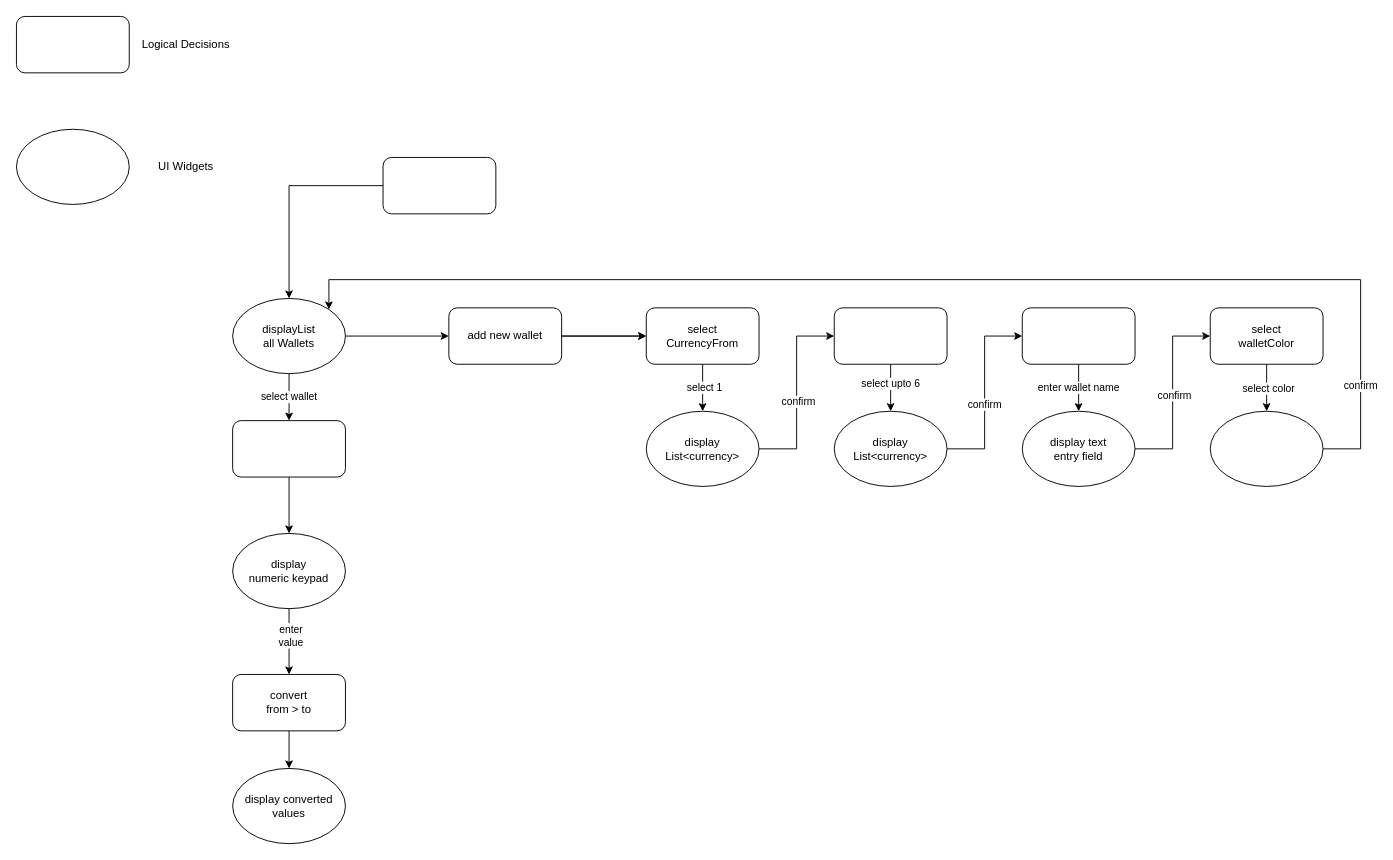
Some shapes in this 1393 by 860 pixel diagram are drawn without their labels. The shapes that lost their labels are listed below. From the top down, each one's centre as x and y in pixels, then its label:
At point (439, 185): "open APP".
At point (890, 335): "select CurrencyTo".
At point (1078, 335): "input walletName".
At point (288, 448): "tap to enter value".
At point (1266, 448): "display color options".
